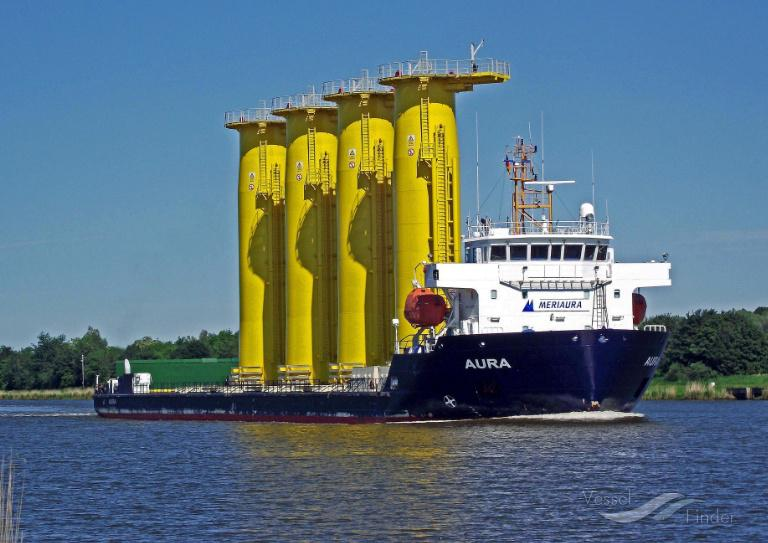OCR: (464, 354, 518, 379), (536, 298, 583, 316)
